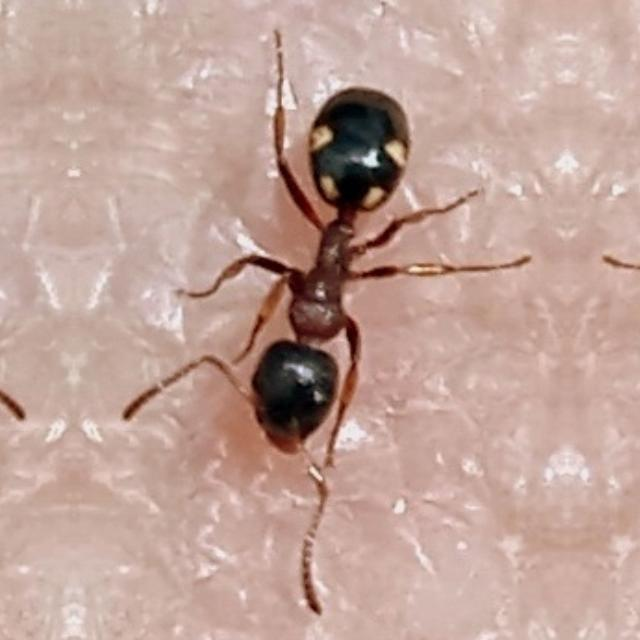Dolichoderus: (174, 25, 472, 523)
